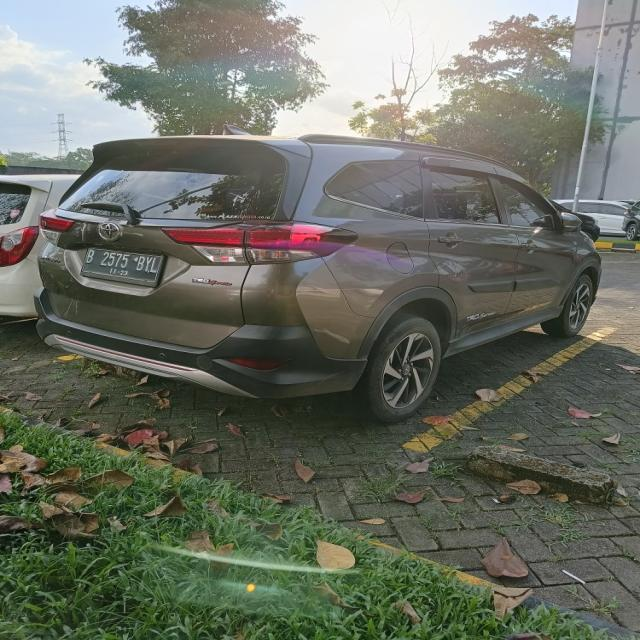plates: (77, 242, 164, 298)
